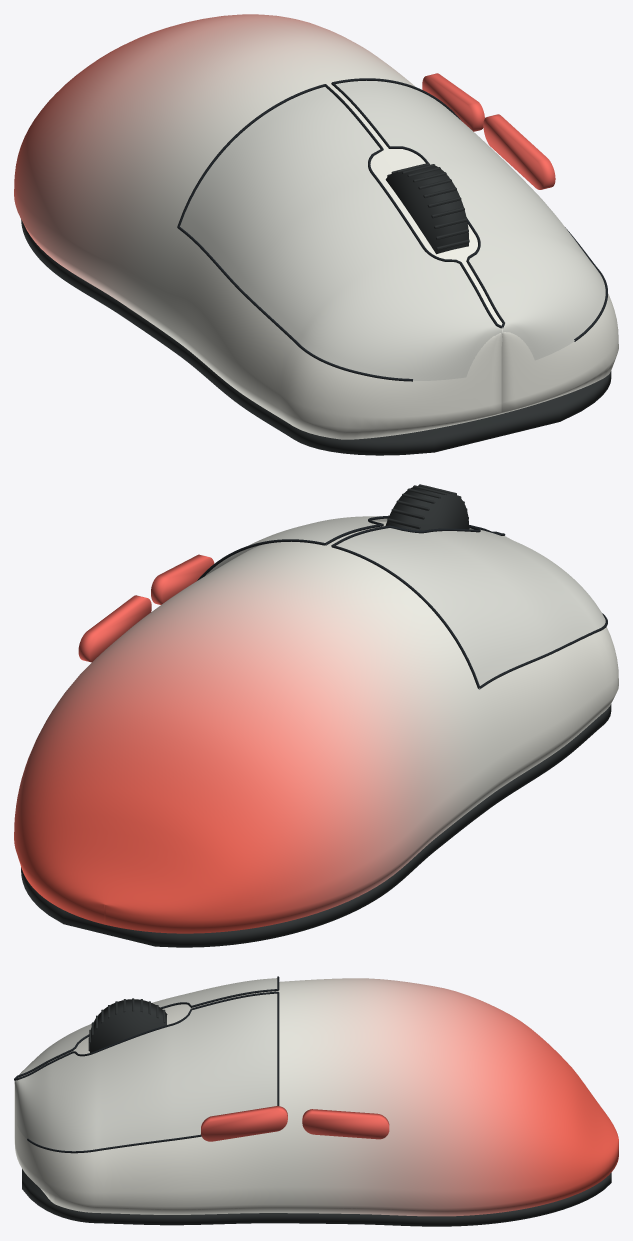
File: lod0_source.glb
3 views of the same model, one above another, from view 1: azimuth 30°, elevation 25°; view 2: azimuth 150°, elevation 25°; view 3: azimuth 270°, elevation 25° (orthographic). The views are drawn at different scales.
Visible parts, largest first — view 1: Mouse body GPX continuous rounded back, Left click panel, Right click panel, Thin inset black base, Scroll wheel, Curved capsule left side button, Curved capsule left side button.001, Left click center seam, Left click outer seam, Right click center seam, Left click rear seam; view 2: Mouse body GPX continuous rounded back, Left click panel, Thin inset black base, Scroll wheel, Curved capsule left side button.001, Right click panel, Curved capsule left side button, Left click rear seam; view 3: Mouse body GPX continuous rounded back, Right click panel, Thin inset black base, Scroll wheel, Left click panel, Curved capsule left side button.001, Curved capsule left side button, Right click center seam, Left click center seam, Right click outer seam.
Part boxes in pixels (box(x1,y1,x2,y2)): Mouse body GPX continuous rounded back: box(14, 14, 618, 439); Left click panel: box(180, 87, 501, 380); Right click panel: box(335, 80, 605, 360); Thin inset black base: box(21, 219, 611, 455); Scroll wheel: box(385, 164, 469, 254); Curved capsule left side button: box(483, 114, 555, 189); Curved capsule left side button.001: box(422, 73, 484, 131); Left click center seam: box(325, 84, 502, 328); Left click outer seam: box(177, 226, 412, 381); Right click center seam: box(331, 82, 504, 328); Left click rear seam: box(177, 84, 324, 226); Mouse body GPX continuous rounded back: box(14, 521, 618, 933); Left click panel: box(336, 528, 605, 688); Thin inset black base: box(21, 704, 611, 947); Scroll wheel: box(385, 486, 469, 530); Curved capsule left side button.001: box(78, 595, 151, 662); Right click panel: box(205, 516, 473, 575); Curved capsule left side button: box(151, 554, 214, 604); Left click rear seam: box(331, 545, 480, 688); Mouse body GPX continuous rounded back: box(14, 978, 618, 1216); Right click panel: box(14, 993, 277, 1151); Thin inset black base: box(22, 1169, 611, 1226); Scroll wheel: box(89, 999, 167, 1052); Left click panel: box(18, 978, 277, 1077); Curved capsule left side button.001: box(302, 1109, 389, 1139); Curved capsule left side button: box(201, 1106, 287, 1141); Right click center seam: box(14, 991, 277, 1080); Left click center seam: box(14, 989, 278, 1078); Right click outer seam: box(27, 1134, 201, 1153).
Size of the model in its own units: 0.0635 by 0.04 by 0.125.
